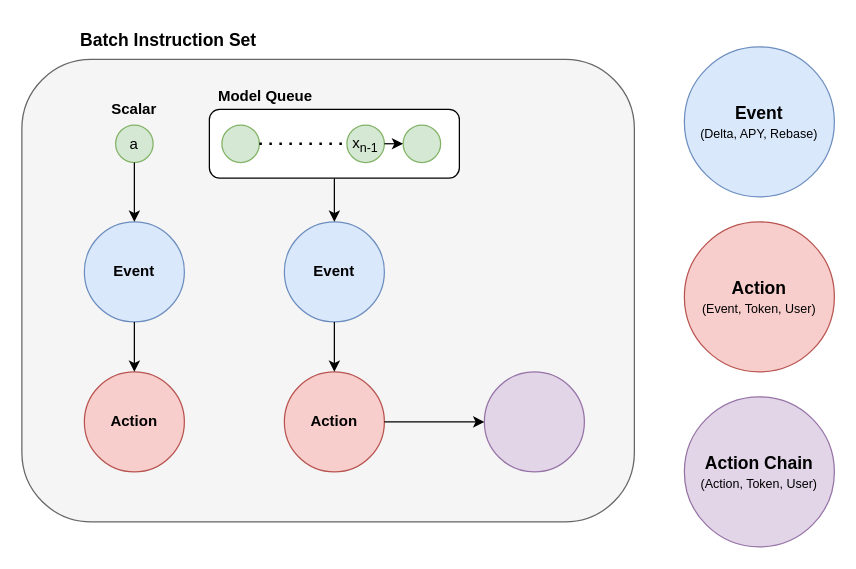
Image size: 856x569. Some labels were removed from this diagram. Here are the shapes that lost their labels. From the top down, the box of each, then its label:
(221, 124, 259, 162): x 1
(402, 124, 441, 162): x n
(483, 371, 584, 472): Action Chain
